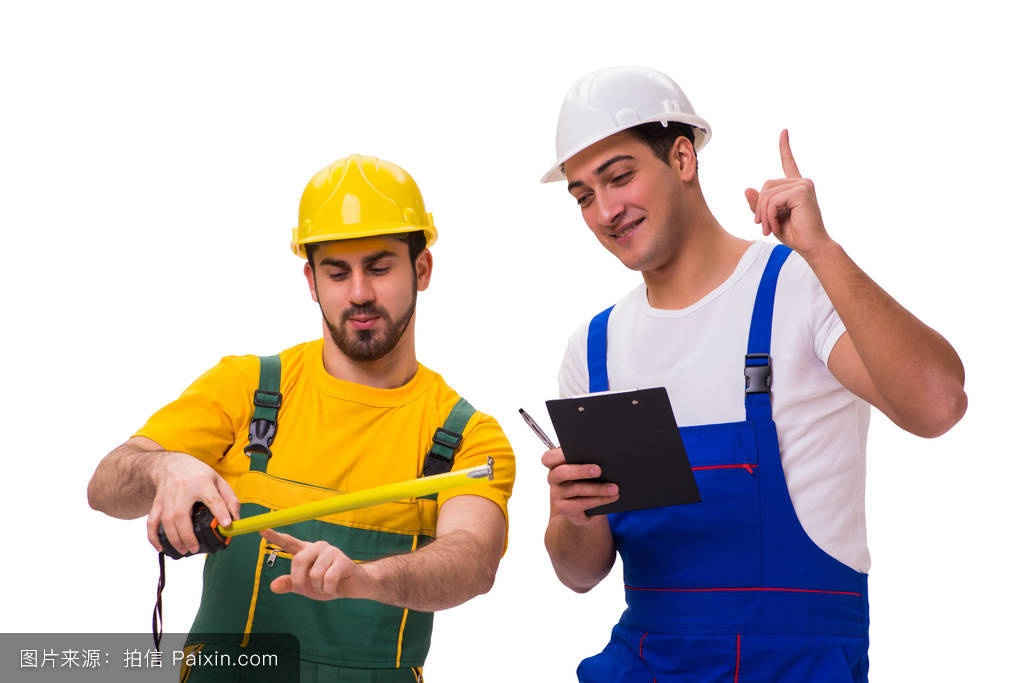white: (543, 52, 707, 280)
yellow: (281, 150, 449, 366)
